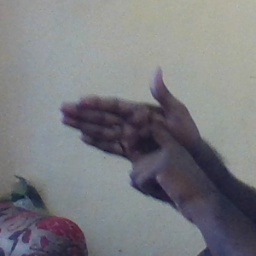R: (62, 67, 210, 199)
